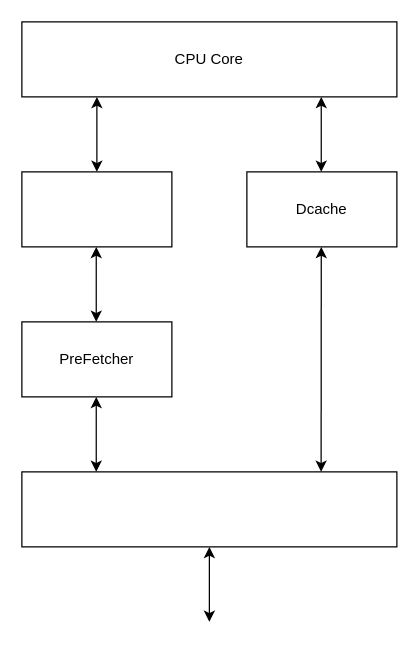
Image size: 419x655. Some labels were removed from this diagram. The centre of each missing label's shape, as x and y in pixels:
"Cache to AXI" belongs at pixel 209 509.
"ICache" belongs at pixel 96 209.
